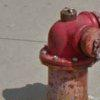Hydrant: (34, 4, 97, 99)
